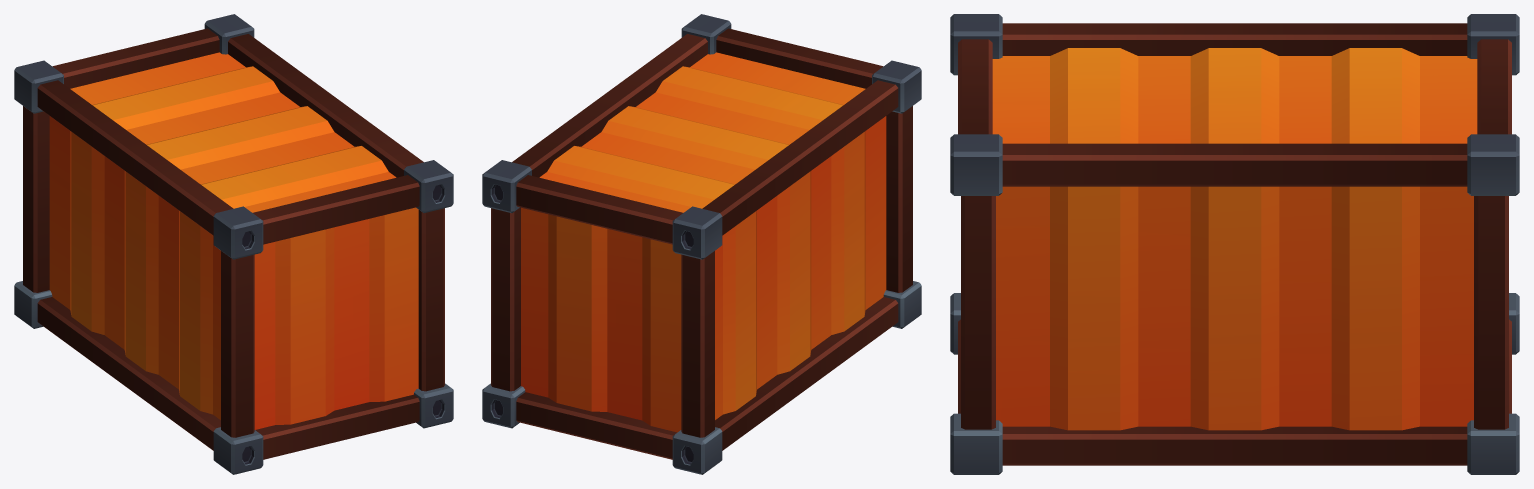
The model's file is sp_build_wall_part0b.fbx.
3 renders of one model, left to right at view 1: azimuth 30°, elevation 25°; view 2: azimuth 150°, elevation 25°; view 3: azimuth 270°, elevation 25°, orthographic. The views are drawn at different scales.
Parts seen in each view (by area): view 1: wall_part0b; view 2: wall_part0b; view 3: wall_part0b.
Boxes of the visible parts, <box> form: wall_part0b: <box>14,14,453,474</box>; wall_part0b: <box>482,14,921,474</box>; wall_part0b: <box>950,14,1519,474</box>.
Size of the model in its own units: 293 by 313 by 499.
